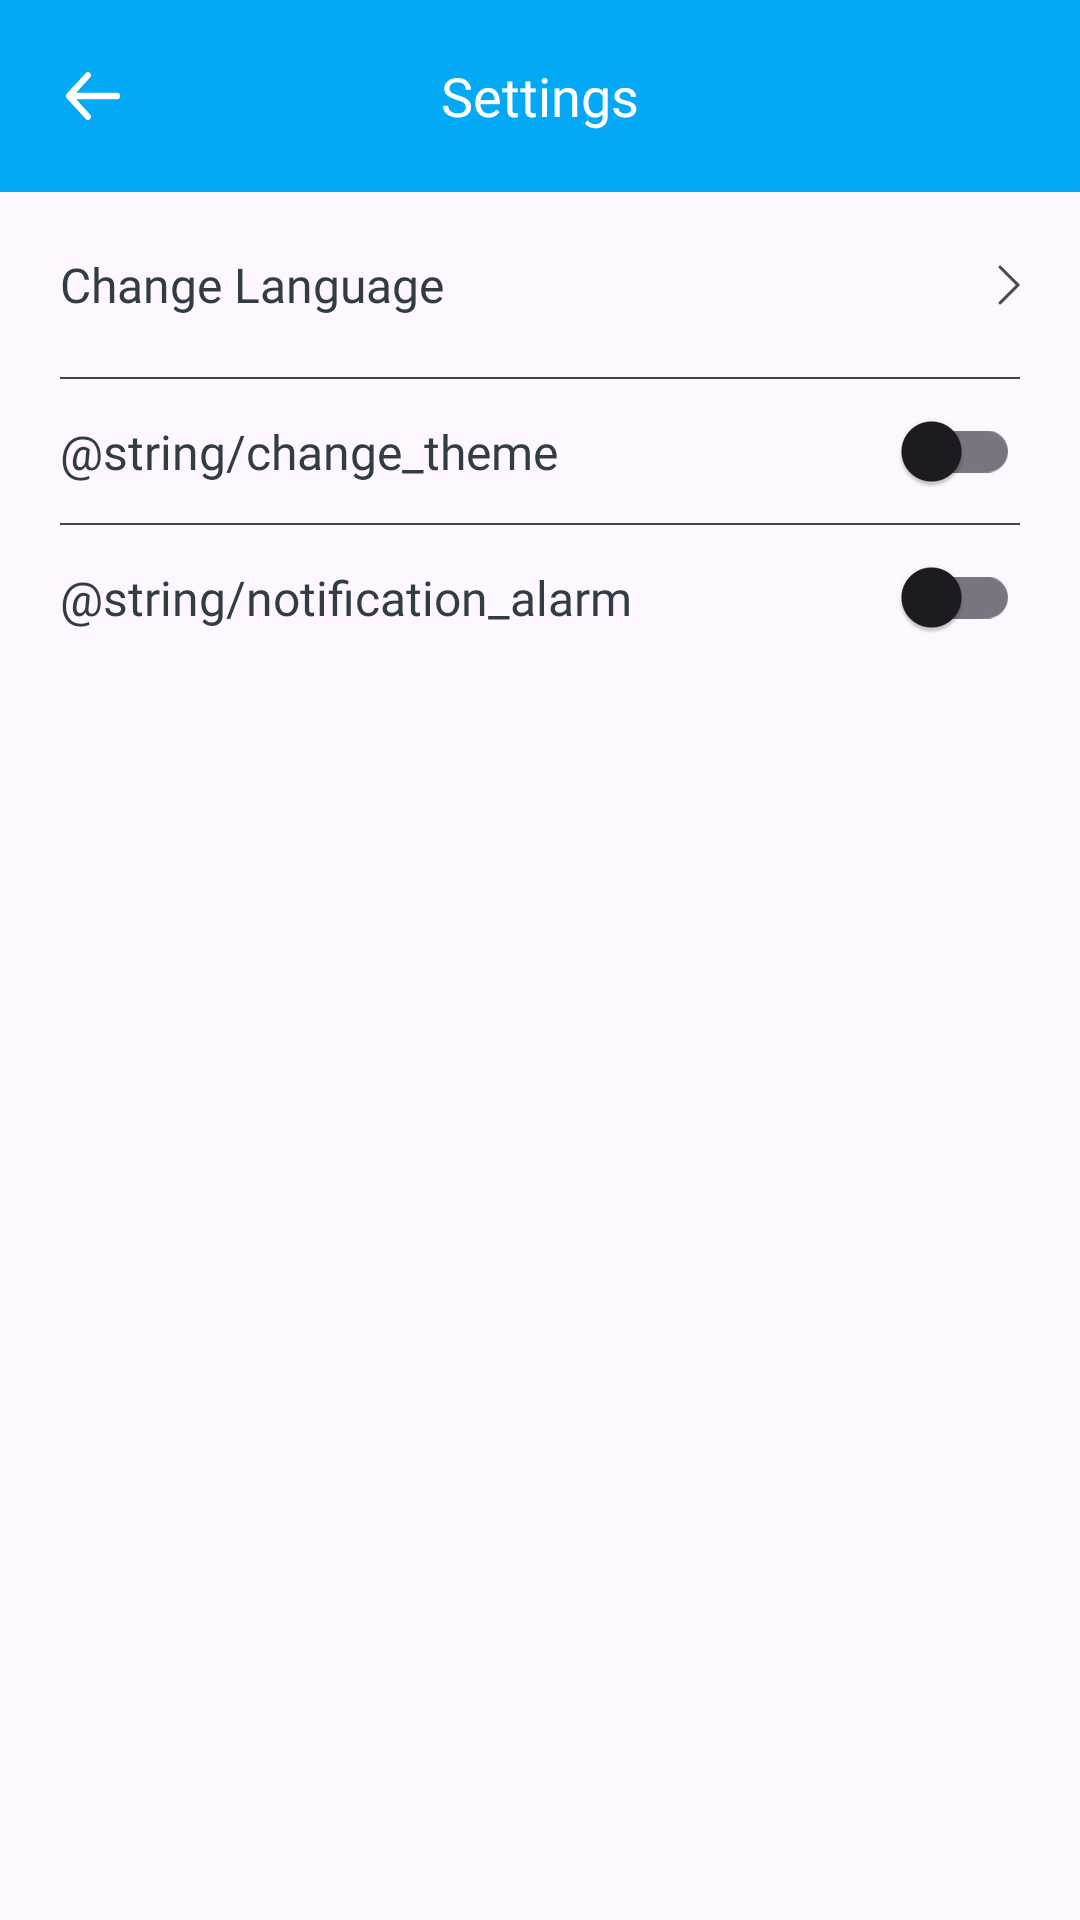

Icon bounding boxes for this 1080px×1920px phone screenshot, format (x1, y1, x2, y2):
button back setting: (66, 72, 120, 120)
